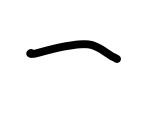minus: (25, 39, 121, 69)
